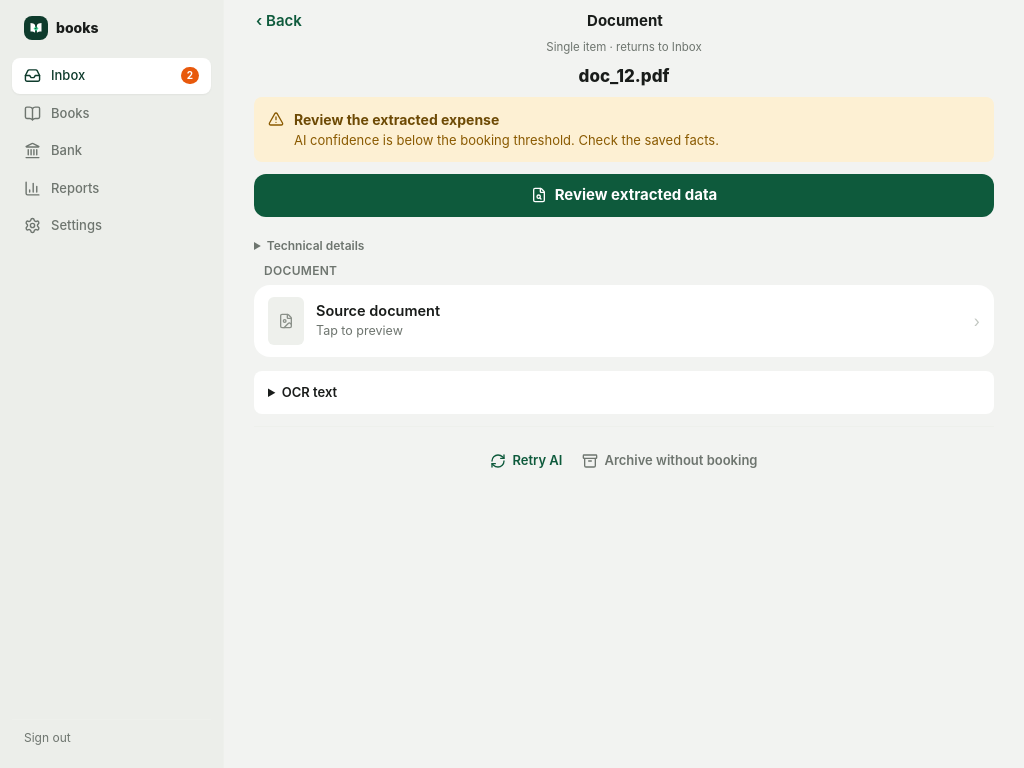
Test: Inbox completion history (#252) › deep link is a single item (#253): the decision replaces it with /inbox — no queue tour, no pop out of the app
The width and height of the screenshot is (1024, 768).
Expected: the text "Single item · returns to Inbox" is shown, [546,40,702,54]
Expected: the text "doc_12.pdf" is shown, [579,66,670,86]
Click the button "Archive without booking": click(670, 461) [582,439,758,483]
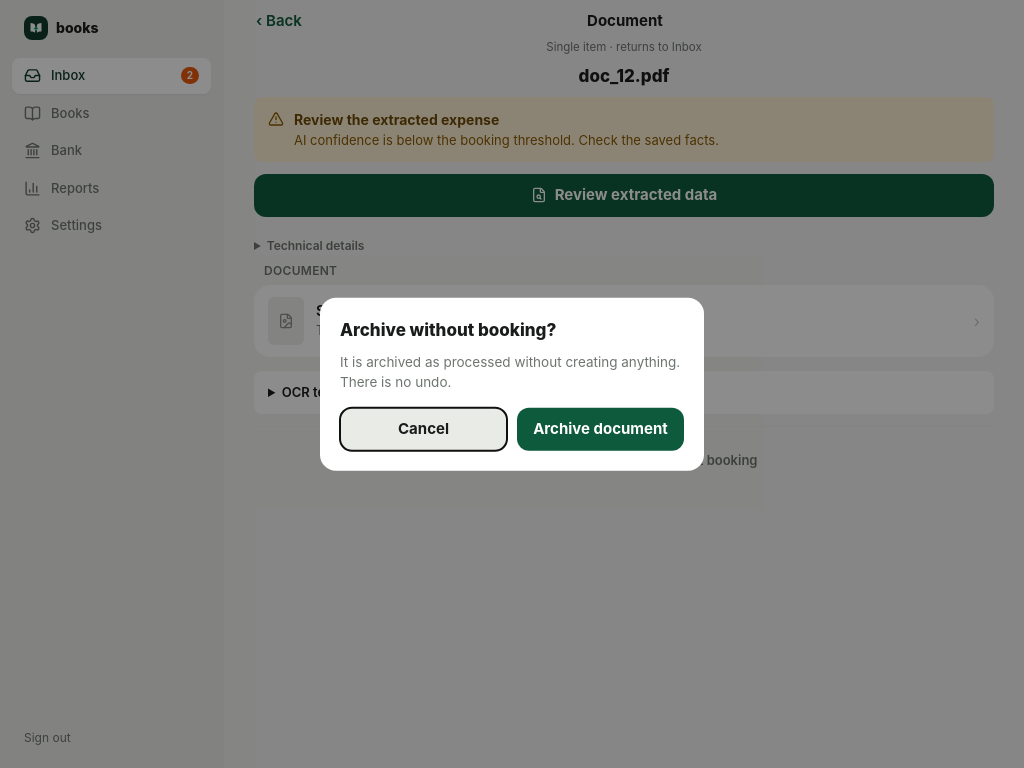
Click the button "Archive document": click(600, 429) [517,408,684,450]
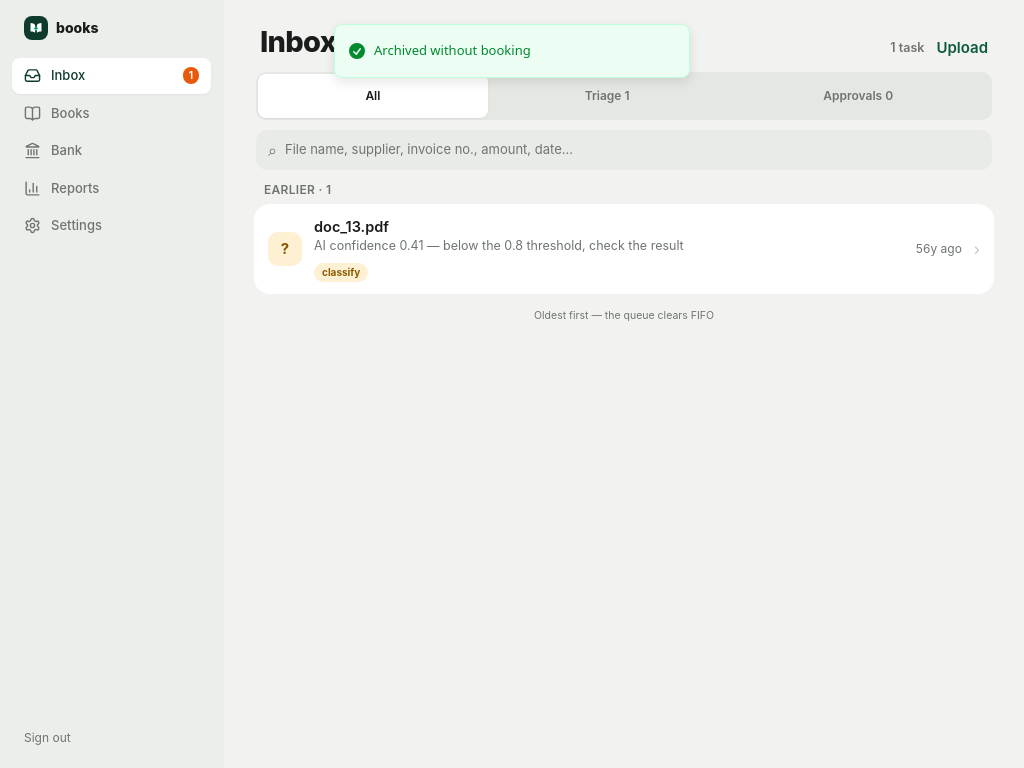
Expected: the text "doc_13.pdf" is shown, [314,218,389,234]
